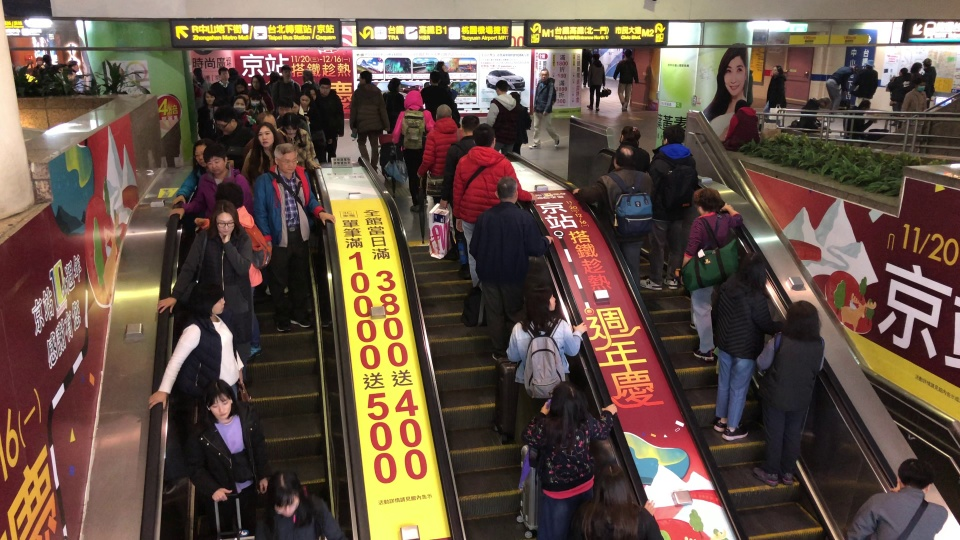person_head: (782, 296, 822, 338), (896, 457, 930, 504), (544, 381, 579, 426), (524, 279, 558, 324), (203, 379, 237, 423), (269, 475, 303, 516), (737, 252, 768, 290), (199, 281, 226, 319), (214, 200, 240, 238), (216, 181, 244, 209), (473, 123, 496, 156), (213, 106, 238, 135), (663, 121, 687, 145), (275, 143, 298, 168), (283, 112, 301, 143), (699, 188, 722, 212), (497, 179, 516, 208), (207, 146, 228, 172), (612, 145, 630, 173), (626, 120, 641, 152), (194, 139, 210, 168), (258, 124, 275, 151), (403, 88, 423, 108), (259, 112, 282, 129), (436, 104, 453, 122), (461, 116, 478, 133), (494, 77, 509, 96), (385, 78, 401, 93), (732, 98, 747, 113), (251, 74, 265, 90), (319, 77, 331, 95), (278, 96, 291, 112), (66, 58, 78, 75), (203, 89, 216, 104), (539, 68, 552, 83), (432, 59, 447, 72), (235, 78, 247, 94), (300, 90, 312, 106), (358, 71, 371, 85), (239, 91, 251, 106), (269, 71, 280, 87), (233, 97, 245, 111), (281, 64, 292, 79), (308, 86, 318, 101), (291, 96, 299, 114), (191, 68, 202, 81), (250, 93, 261, 106), (860, 99, 870, 113), (910, 61, 920, 74), (818, 96, 829, 107), (219, 67, 227, 82), (916, 79, 925, 91), (899, 65, 908, 77), (302, 72, 312, 82), (771, 65, 781, 75), (591, 50, 600, 61), (865, 59, 874, 69), (35, 56, 43, 66), (923, 57, 931, 66), (852, 64, 860, 73), (624, 49, 630, 58)
person_vbox: (155, 199, 266, 367), (254, 143, 337, 335), (142, 280, 254, 421), (524, 376, 619, 540), (471, 177, 553, 363), (507, 277, 591, 457), (755, 291, 830, 490), (453, 131, 537, 304), (710, 251, 772, 448), (685, 182, 747, 366), (187, 380, 257, 540), (855, 443, 949, 540), (594, 134, 654, 284), (440, 115, 494, 269), (649, 120, 694, 302), (190, 181, 270, 278), (169, 146, 253, 234), (412, 101, 458, 247), (610, 118, 655, 256), (255, 473, 344, 540), (391, 88, 432, 216), (173, 137, 234, 205), (348, 66, 381, 181), (528, 65, 561, 156), (209, 106, 255, 171), (243, 112, 290, 175), (274, 112, 322, 172), (485, 75, 518, 160), (241, 122, 286, 182), (722, 91, 759, 156), (317, 77, 345, 161), (382, 74, 405, 174), (901, 75, 927, 155), (613, 45, 639, 116), (761, 65, 787, 133), (305, 86, 328, 161), (844, 94, 877, 145), (509, 90, 532, 160), (295, 90, 319, 157), (798, 94, 832, 140), (884, 66, 909, 127), (826, 64, 862, 106), (197, 86, 222, 138), (428, 57, 455, 105), (275, 96, 309, 134), (586, 49, 606, 109), (248, 73, 275, 115), (212, 65, 236, 106), (860, 58, 878, 111), (63, 58, 87, 95), (190, 67, 210, 108), (921, 56, 936, 108), (280, 65, 301, 102), (266, 68, 283, 113), (286, 96, 308, 126), (908, 60, 925, 94), (232, 93, 251, 120), (301, 67, 319, 95), (228, 96, 247, 122), (248, 89, 265, 118), (231, 77, 251, 99), (580, 47, 591, 86), (45, 53, 59, 82), (746, 69, 755, 110), (227, 67, 242, 86), (32, 55, 43, 79)
